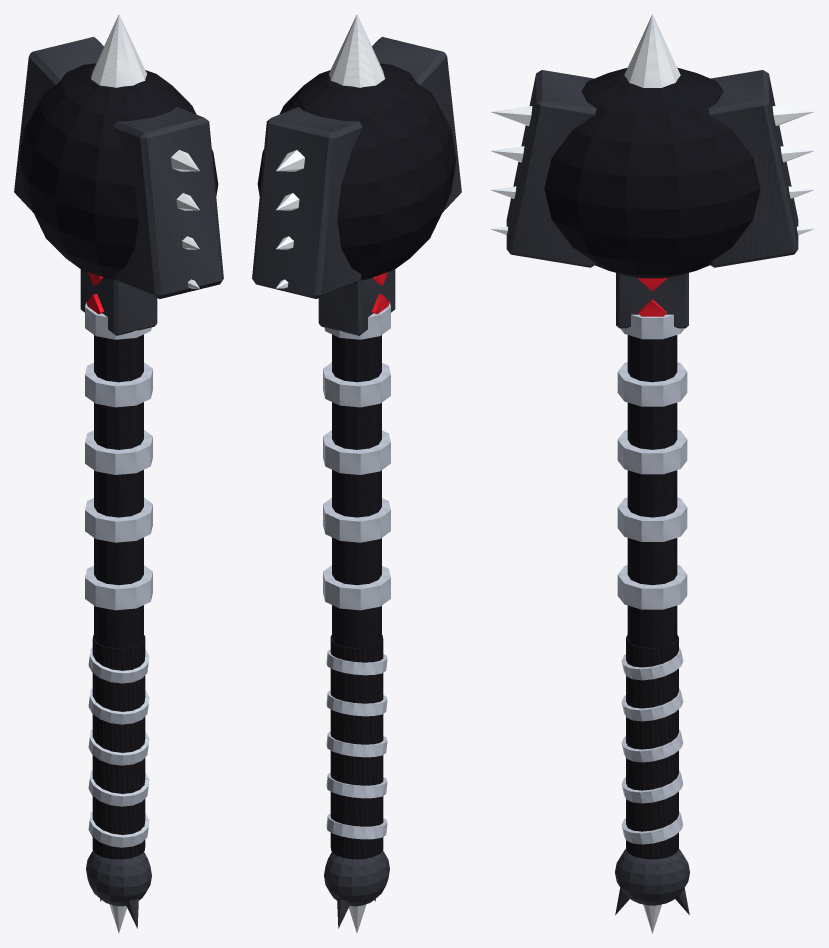
File: AncientMaw.fbx
3 views of the same model, side by side, from view 1: azimuth 30°, elevation 25°; view 2: azimuth 150°, elevation 25°; view 3: azimuth 270°, elevation 25° (orthographic).
Parts seen in each view (by area): view 1: AncientMaw; view 2: AncientMaw; view 3: AncientMaw.
Part boxes in pixels (x1=…): AncientMaw: x1=14, y1=14, x2=223, y2=932; AncientMaw: x1=252, y1=14, x2=461, y2=932; AncientMaw: x1=490, y1=14, x2=814, y2=933.
Size of the model in its own units: 107 by 612 by 196.
1 material, 1 textured.
